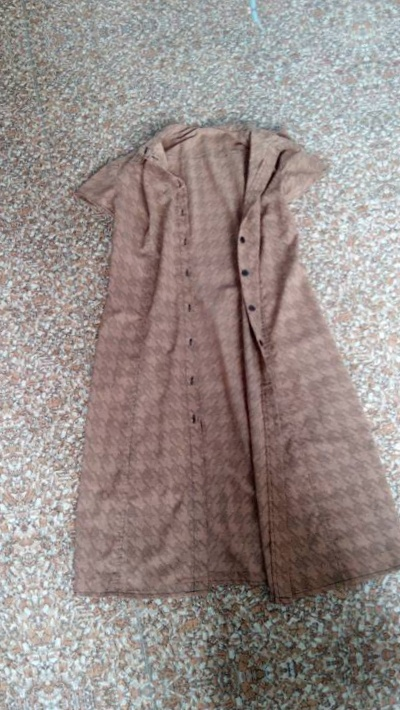Dress: (5, 84, 400, 646), (388, 26, 400, 588), (99, 702, 400, 710), (0, 149, 2, 710)
